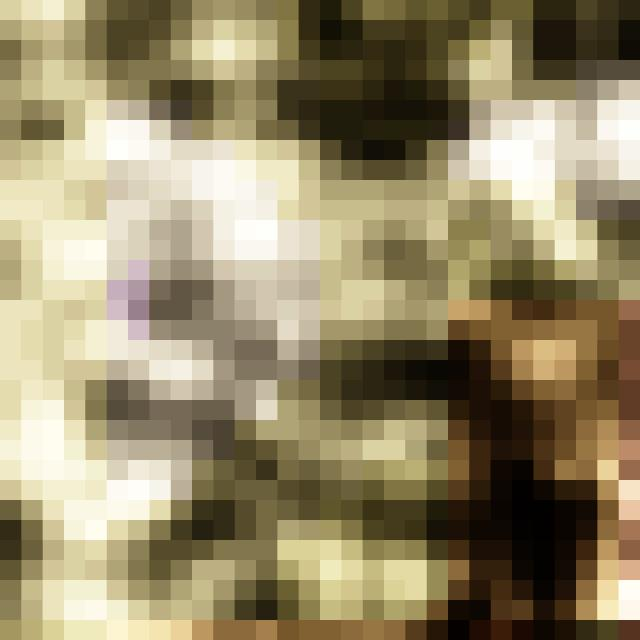arms: (512, 0, 640, 640)
